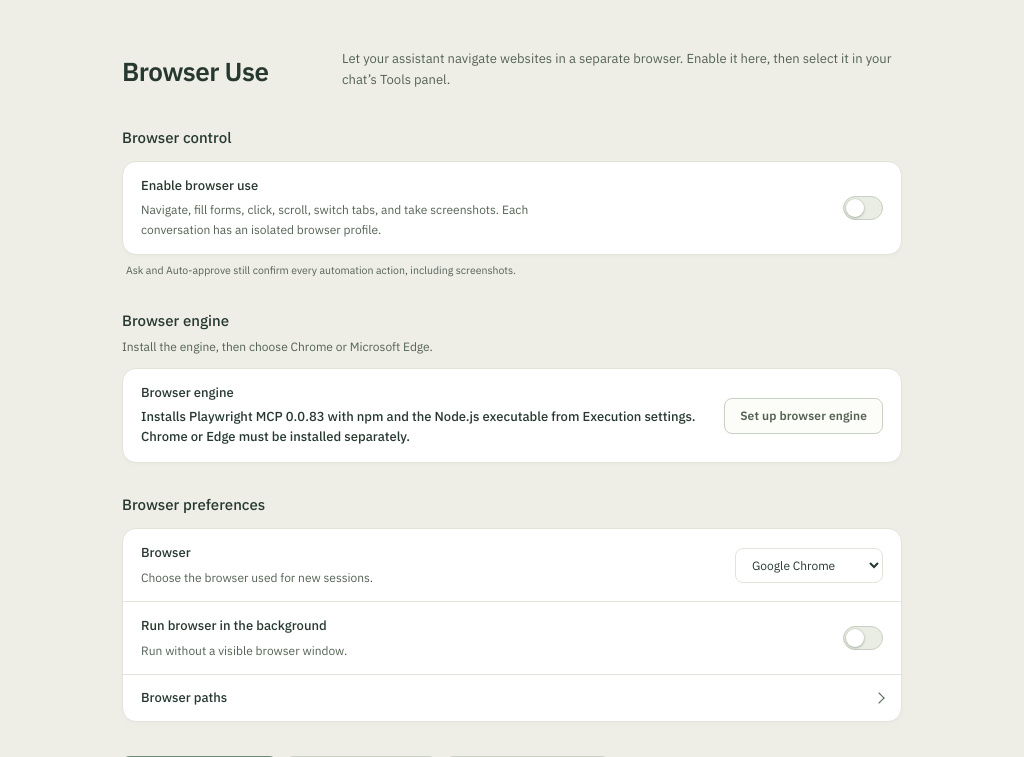
automation settings › reports setup failures and can reset browser sessions
What coordinates should you click on to do the following:
click the button "Set up browser engine"
I would click on:
 (804, 416)
Its box is [724,398,883,434].
(page scrolled)
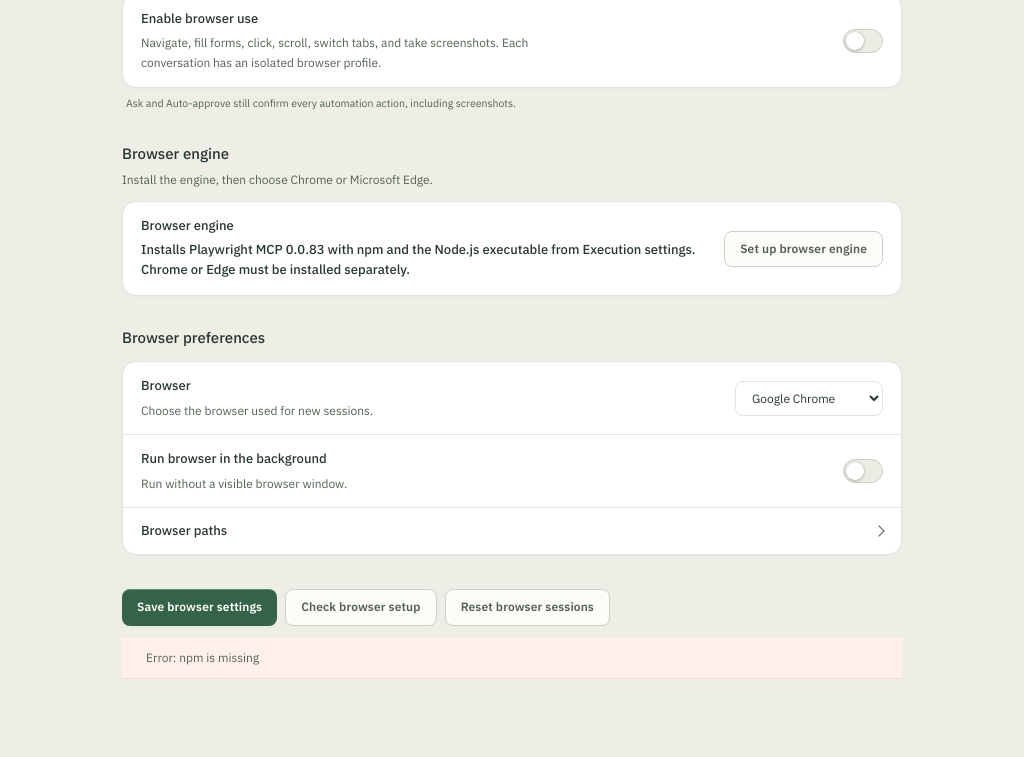
Expected: the message shows "npm is missing", [146,650,259,665]
What coordinates should you click on to do the following:
click the button "Reset browser sessions"
I would click on:
 (527, 608)
Its box is [445,590,610,626].
(page scrolled)
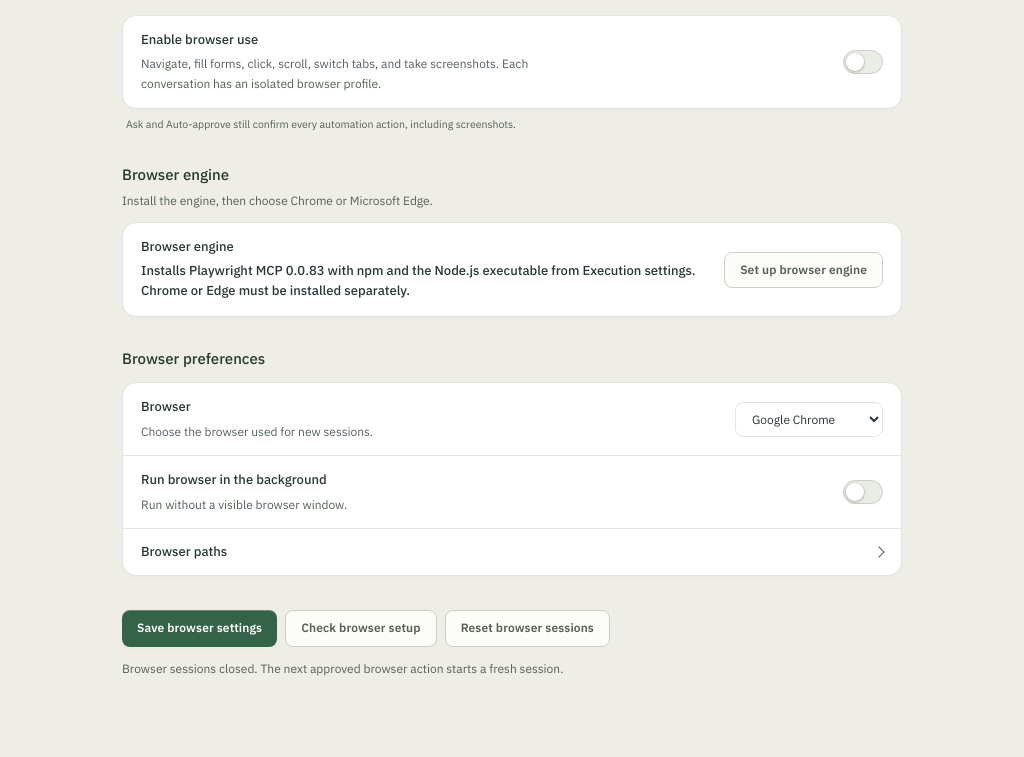
Expected: the text "Browser sessions closed" is shown, [122,661,563,676]
